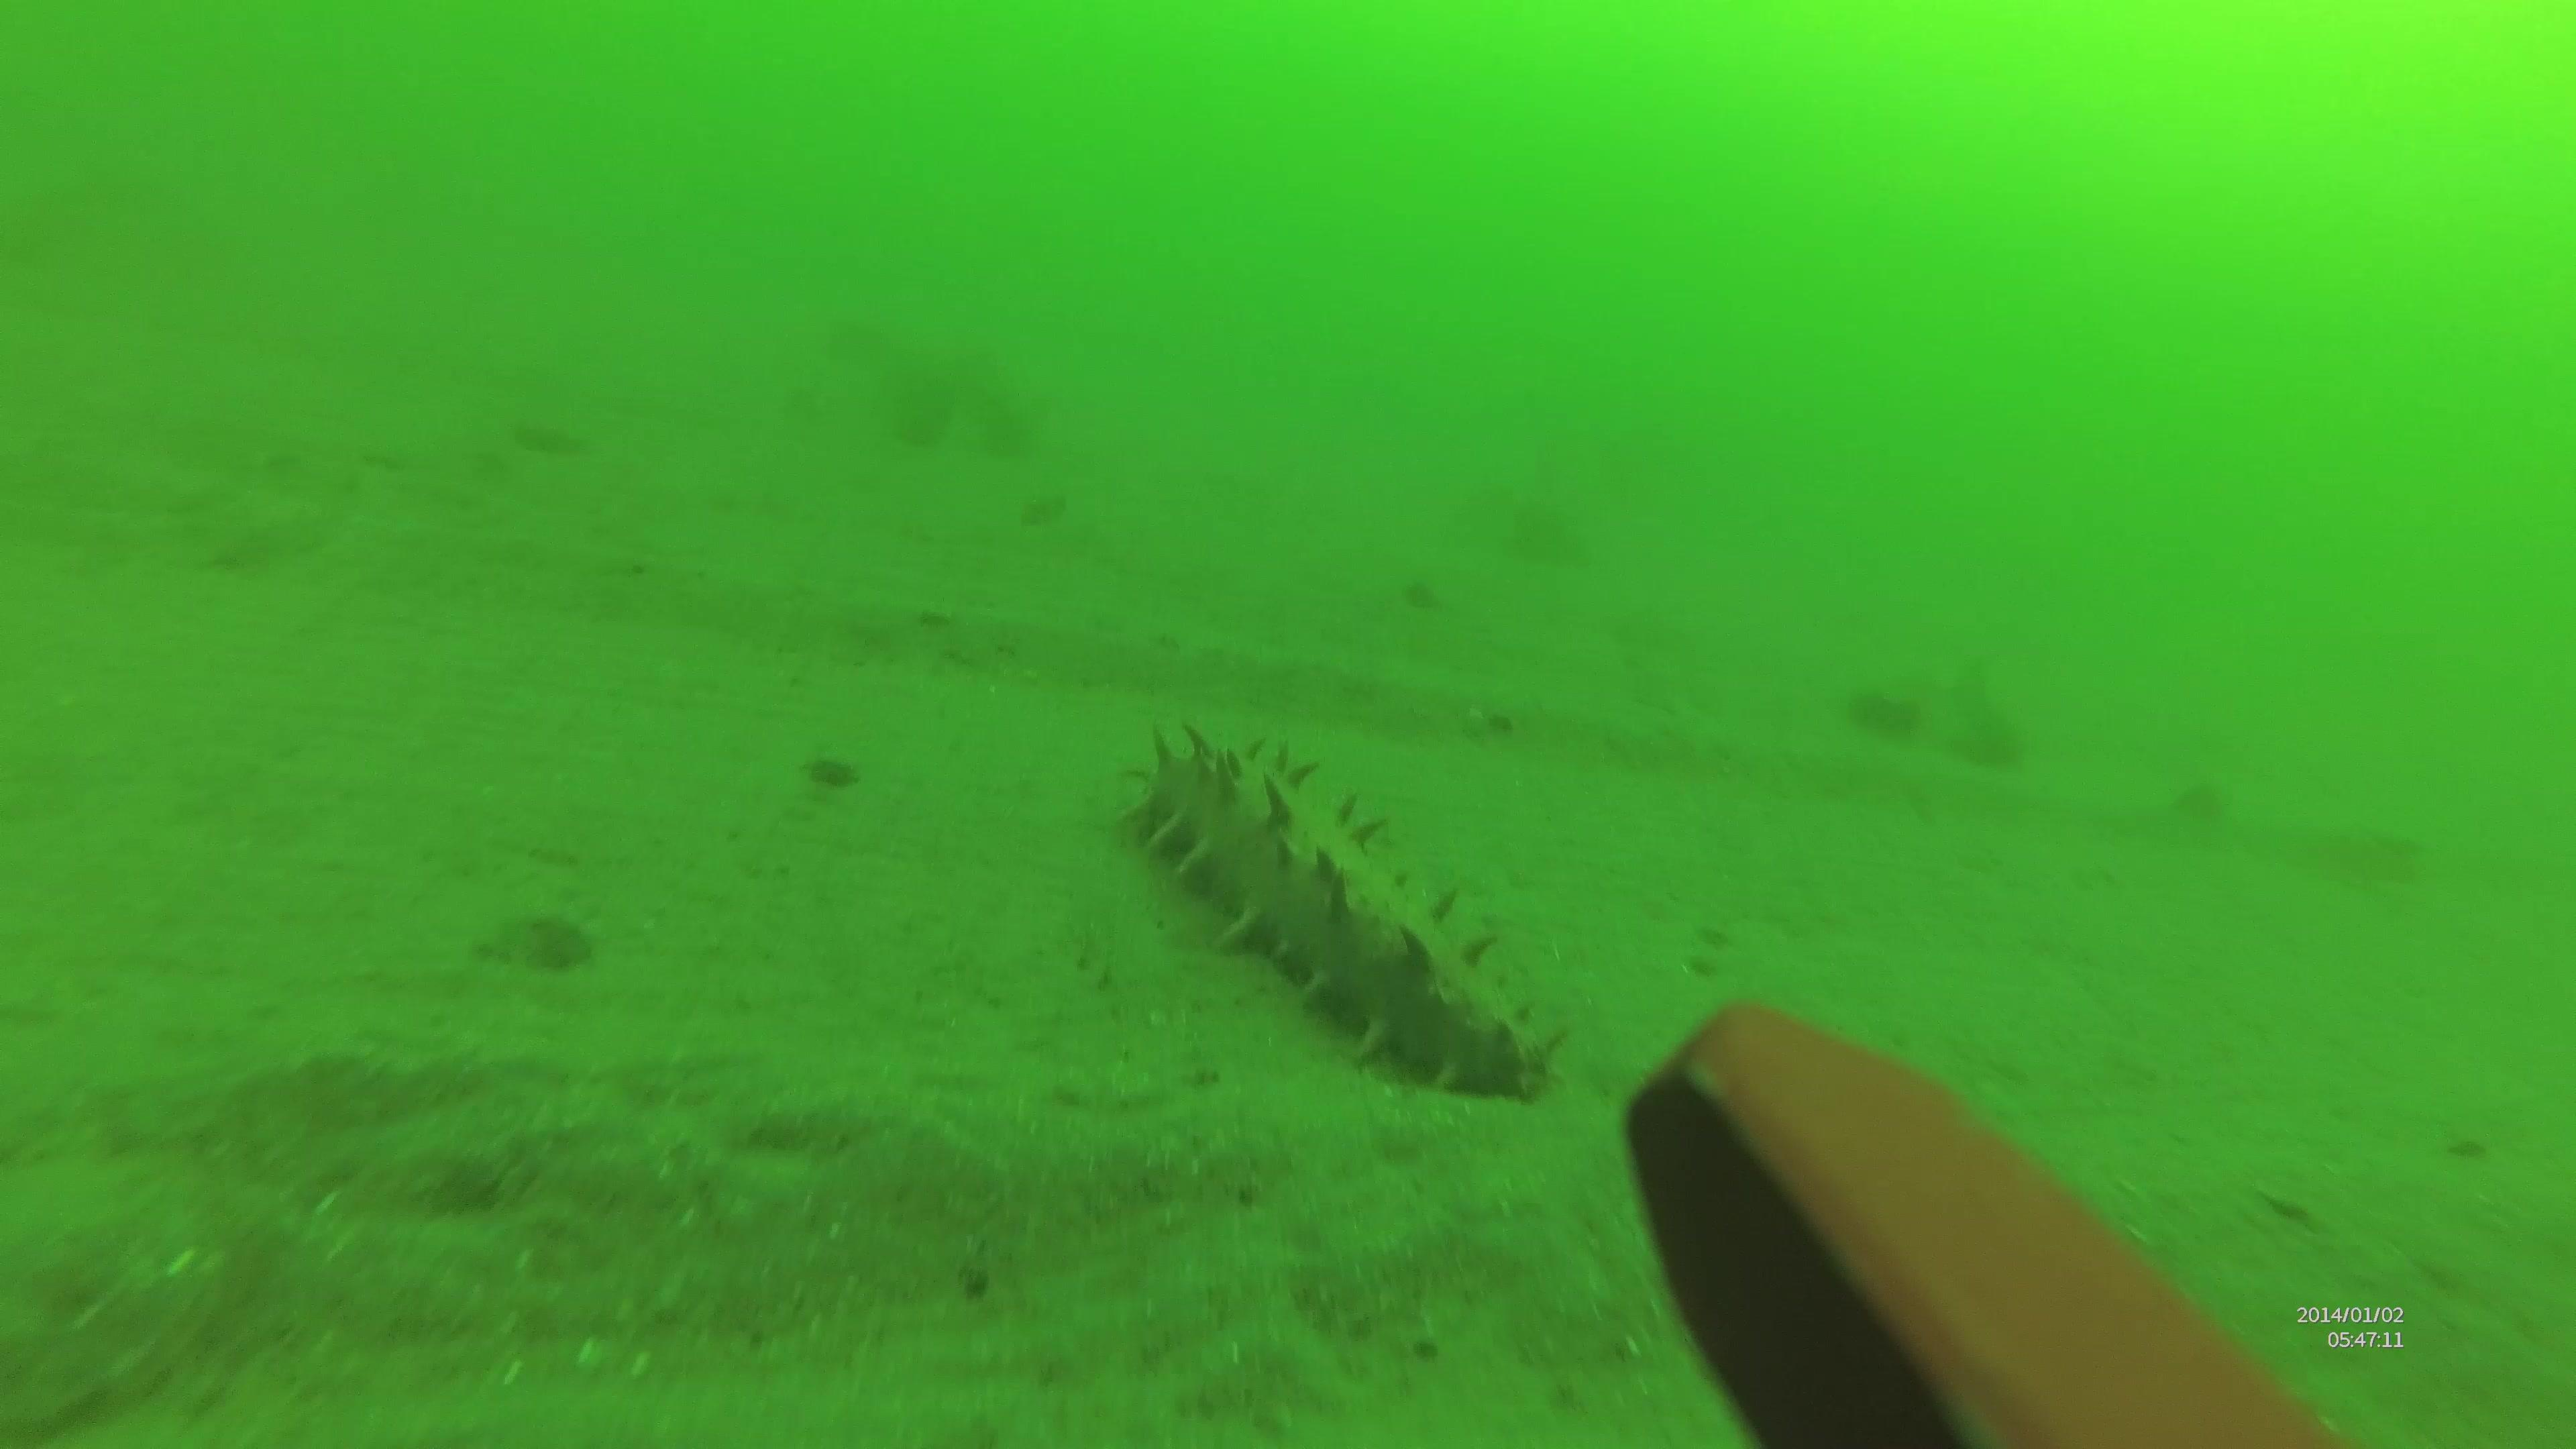holothurian: (1123, 720, 1559, 1104)
